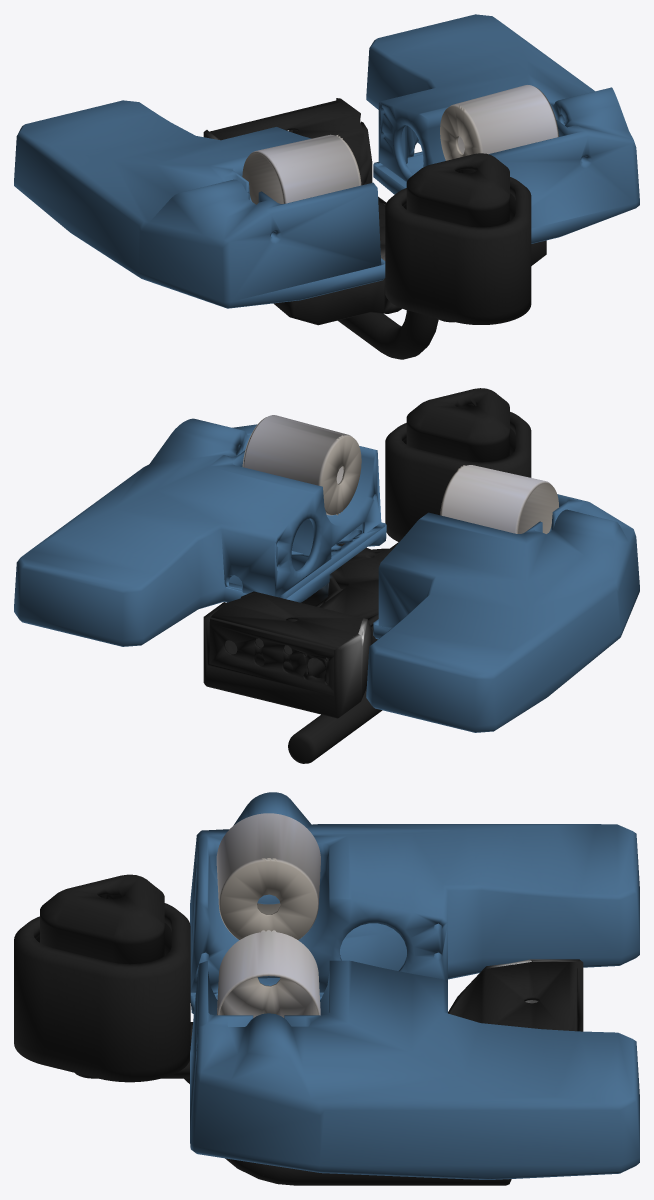
Rendered from Altiscan2t.obj.
3 views of the same model, one above another, from view 1: azimuth 30°, elevation 25°; view 2: azimuth 150°, elevation 25°; view 3: azimuth 270°, elevation 25° (orthographic). The views are drawn at different scales.
Size of the model in its own units: 0.3378 by 0.1612 by 0.3144.
1 material, 1 textured.
